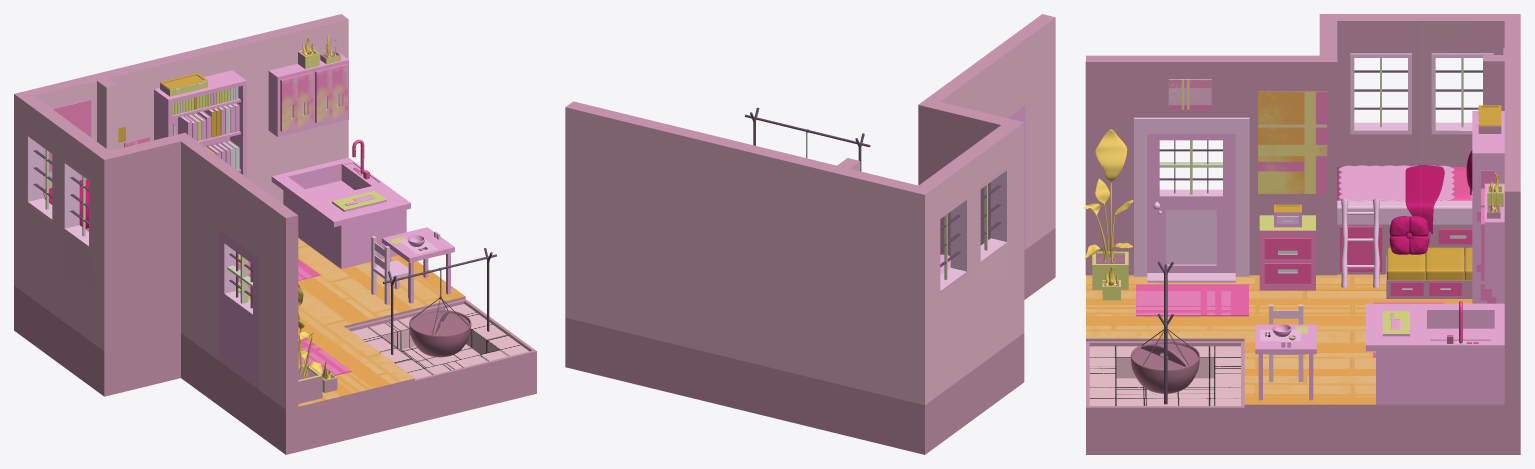
Rendered from room_level_4.glb.
3 views of the same model, side by side, from view 1: azimuth 30°, elevation 25°; view 2: azimuth 150°, elevation 25°; view 3: azimuth 270°, elevation 25° (orthographic). The views are drawn at different scales.
Parts seen in each view (by area): view 1: Walls, Floor, Floor.001, Sink, Cube.037, Cube.017, Cube.007, Table, Cube.020, Sphere.003, Cube, Sphere.004 (+12 smaller); view 2: Walls, Floor; view 3: Walls, Floor, Floor.001, Sink, Cube.037, Plane.023, Plane.010, Cube.017, Plane.009, Cube.050, Cube.045, Plane.014 (+29 smaller).
Boxes of the visible parts, x1,y1,x2,y2 form: Walls: [14, 14, 348, 409]; Floor: [14, 238, 465, 454]; Floor.001: [344, 296, 536, 423]; Sink: [271, 157, 410, 268]; Cube.037: [218, 229, 258, 389]; Cube.017: [154, 70, 246, 177]; Cube.007: [268, 53, 348, 136]; Table: [382, 227, 454, 303]; Cube.020: [172, 103, 239, 141]; Sphere.003: [409, 309, 471, 357]; Cube: [371, 236, 408, 304]; Sphere.004: [411, 311, 469, 335]; Walls: [565, 14, 1055, 405]; Floor: [565, 228, 1055, 454]; Walls: [1085, 14, 1520, 404]; Floor: [1086, 274, 1520, 454]; Floor.001: [1086, 338, 1244, 454]; Sink: [1366, 303, 1504, 404]; Cube.037: [1147, 134, 1235, 272]; Plane.023: [1258, 91, 1327, 193]; Plane.010: [1136, 284, 1248, 316]; Cube.017: [1472, 111, 1504, 303]; Plane.009: [1338, 165, 1454, 201]; Cube.050: [1387, 247, 1472, 280]; Cube.045: [1337, 200, 1472, 224]; Plane.014: [1405, 165, 1444, 233].
Size of the model in its own units: 5.37 by 3.71 by 5.57.
30 materials, 14 textured.
